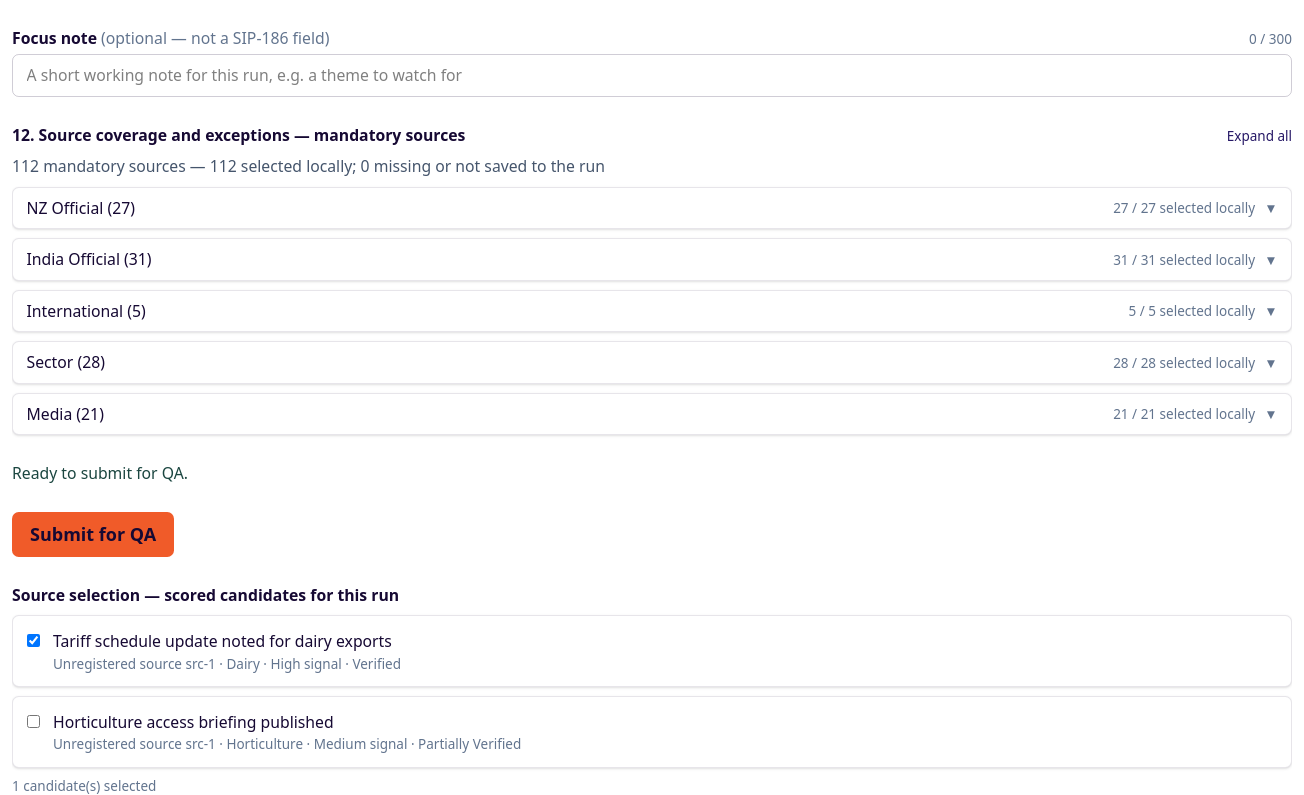
Test: BriefBuilderScreen › surfaces a submit failure without transitioning the report
The image size is (1304, 795).
(page scrolled)
Expected: the text "Ready to submit for QA." is shown, [12,462,188,484]
What coordinates should you click on to do the following:
click the button "Submit for QA"
I would click on:
 (93, 534)
Its box is [12,512,174,557].
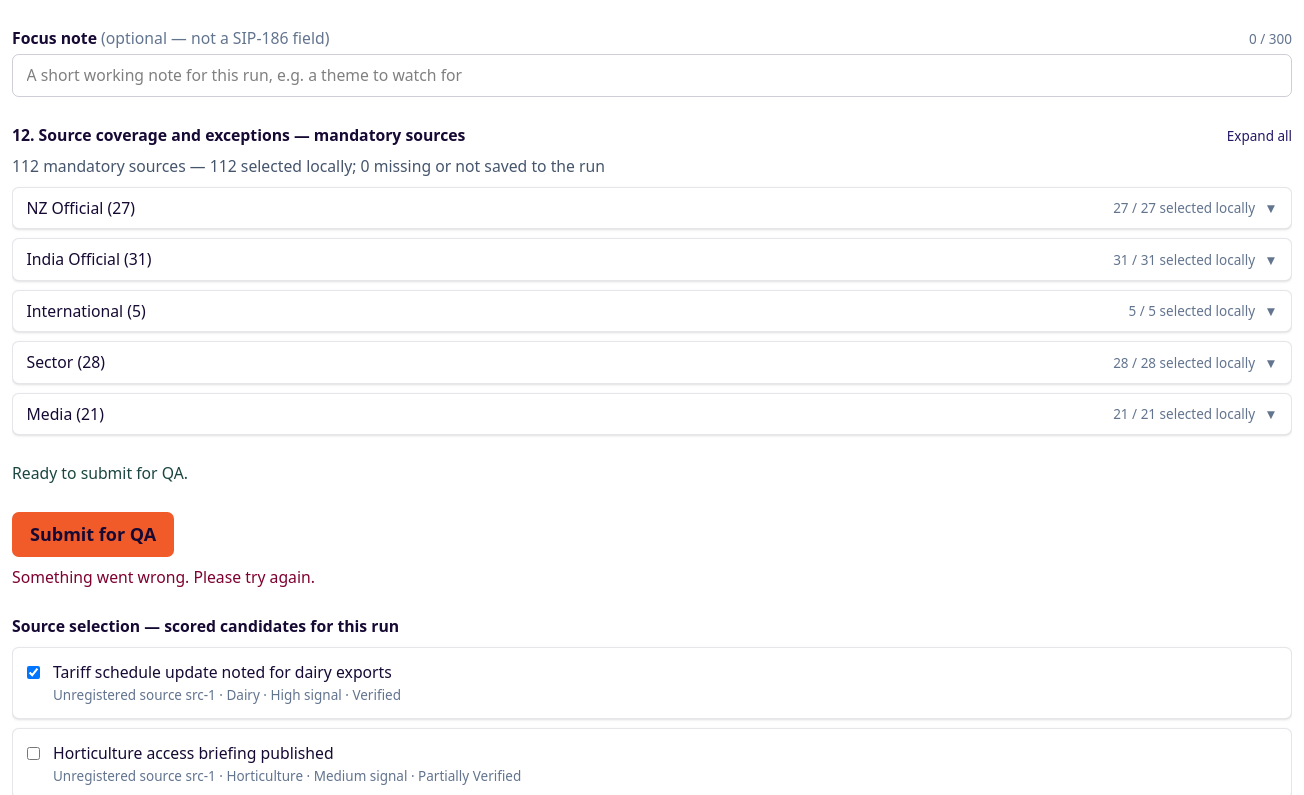
Expected: the message shows "Something went wrong", [12,566,315,588]
